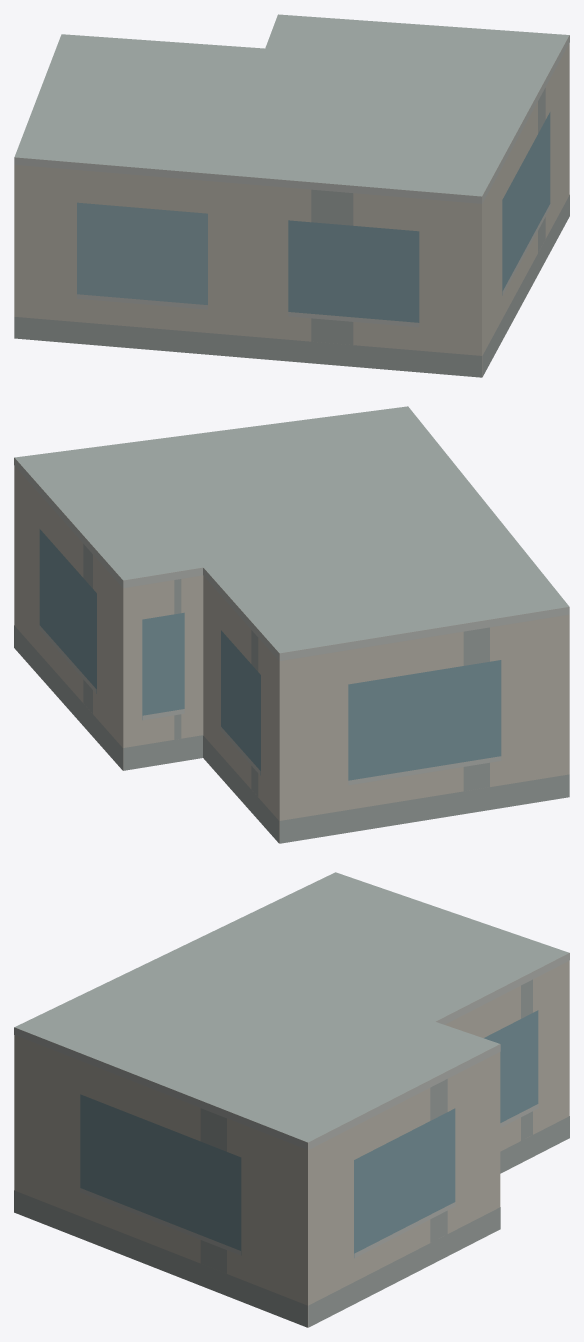
File: residential-2e44db8e-fe7e-4e68-b304-f04e4b655cc5.glb
The picture shows the model from 3 angles, top to bottom: view 1: azimuth 30°, elevation 25°; view 2: azimuth 150°, elevation 25°; view 3: azimuth 270°, elevation 25°; orthographic projection. The views are drawn at different scales.
Parts seen in each view (by area): view 1: residential-2e44db8e-fe7e-4e68-b304-f04e4b655cc5.tmp; view 2: residential-2e44db8e-fe7e-4e68-b304-f04e4b655cc5.tmp; view 3: residential-2e44db8e-fe7e-4e68-b304-f04e4b655cc5.tmp.
Part boxes in pixels (left/top/right/bottom): residential-2e44db8e-fe7e-4e68-b304-f04e4b655cc5.tmp: left=14, top=14, right=569, bottom=377; residential-2e44db8e-fe7e-4e68-b304-f04e4b655cc5.tmp: left=14, top=406, right=569, bottom=843; residential-2e44db8e-fe7e-4e68-b304-f04e4b655cc5.tmp: left=14, top=872, right=569, bottom=1327.
Bounding box in the file's own units: 9.56 × 3.05 × 8.3.
